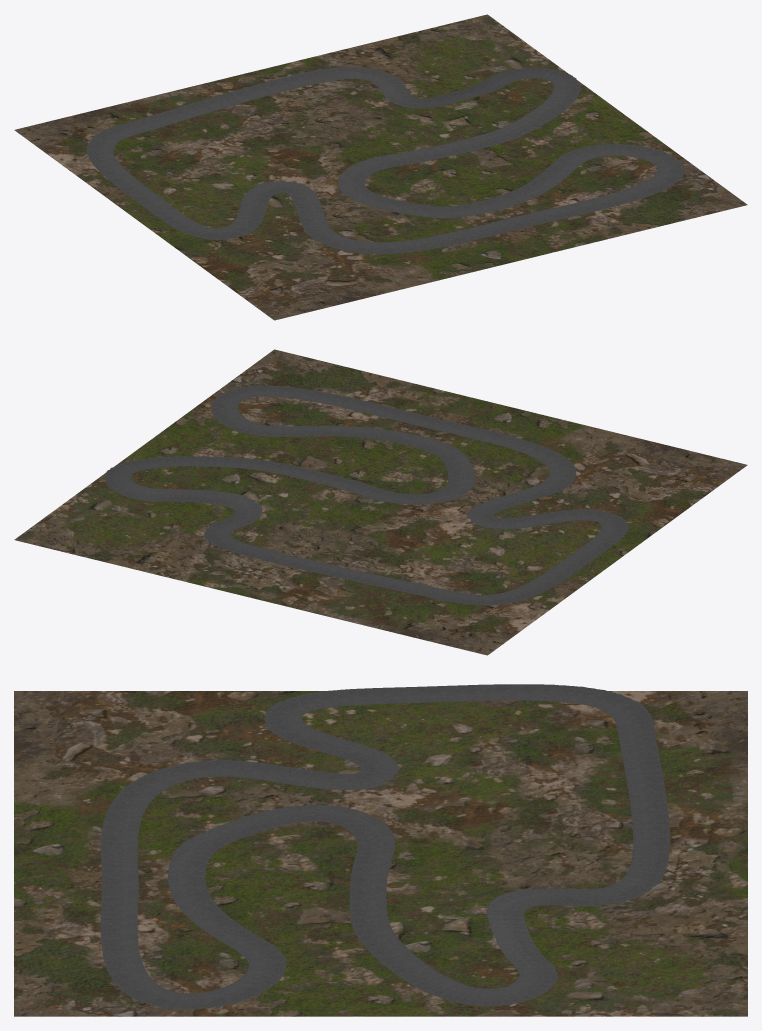
The model's file is CircuitoTutorial.glb.
3 views of the same model, one above another, from view 1: azimuth 30°, elevation 25°; view 2: azimuth 150°, elevation 25°; view 3: azimuth 270°, elevation 25° (orthographic). The views are drawn at different scales.
Parts seen in each view (by area): view 1: FLOOR, ROAD; view 2: FLOOR, ROAD; view 3: FLOOR, ROAD.
Part boxes in pixels (x1,y1,x2,y2): FLOOR: (14,14,747,320); ROAD: (86,66,684,254); FLOOR: (14,349,747,655); ROAD: (104,385,628,605); FLOOR: (14,691,747,1016); ROAD: (100,684,670,1009).
Bounding box in the file's own units: 210 × 5.7 × 200.
Materials: 2 (2 with a texture image).
